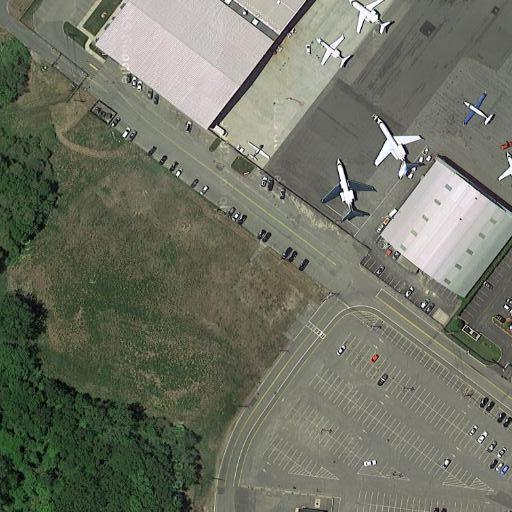plane: (367, 109, 430, 182), (319, 158, 381, 227), (341, 2, 400, 38), (312, 30, 355, 72)
